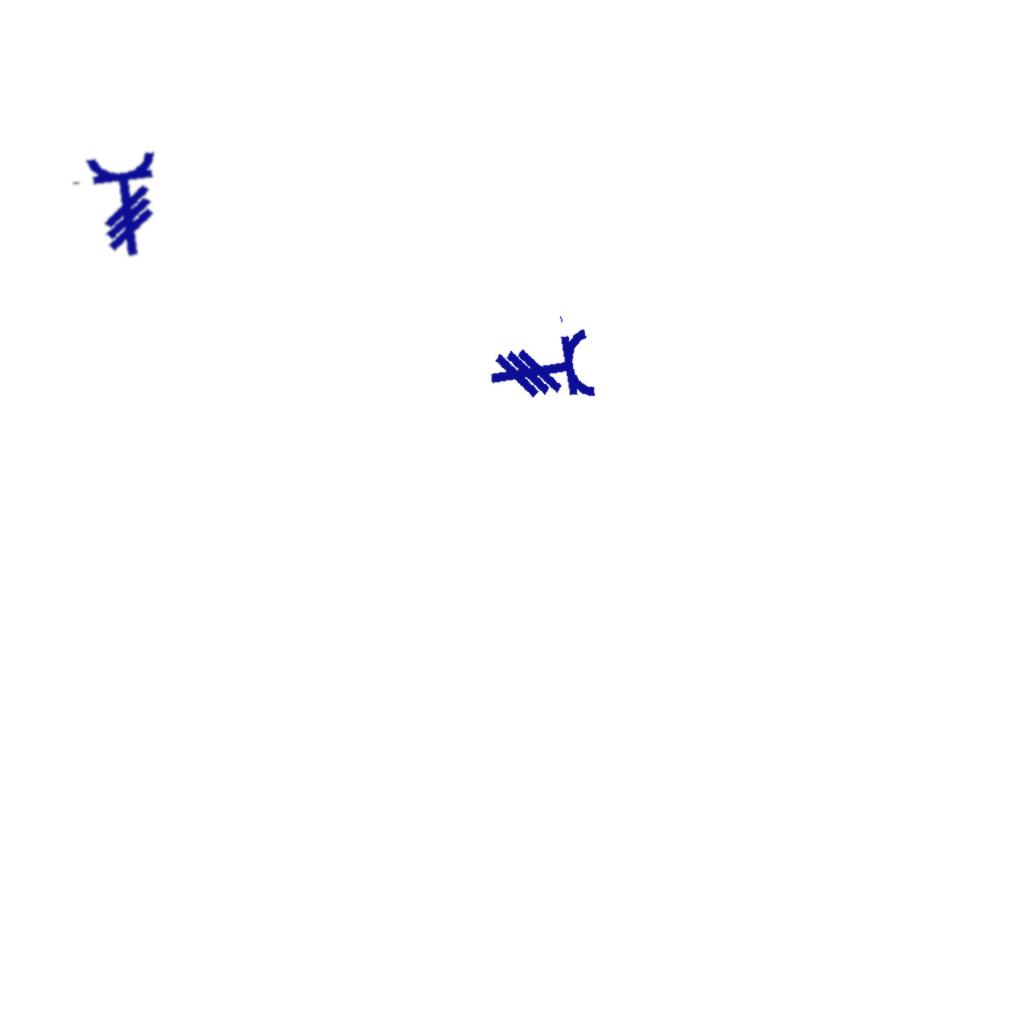CEE_Drehstrom_Steckdose_16_32_A: (481, 309, 599, 415), (66, 148, 170, 264)
